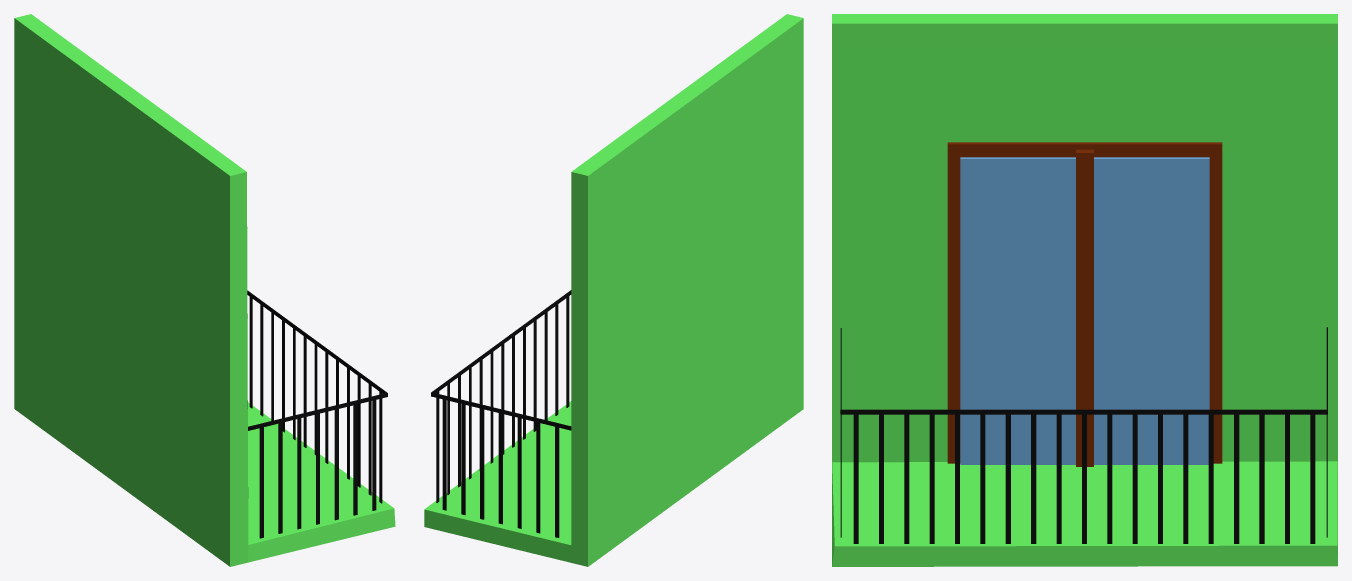
The model's file is balcony2.fbx.
3 views of the same model, side by side, from view 1: azimuth 30°, elevation 25°; view 2: azimuth 150°, elevation 25°; view 3: azimuth 270°, elevation 25° (orthographic). The views are drawn at different scales.
Parts seen in each view (by area): view 1: Cube.010, Cube.006, Cube.008, Cube.005, Cube.009; view 2: Cube.010, Cube.006, Cube.004, Cube.005, Cube.007; view 3: Cube.010, Cube, Cube.006, Cube.001, Cube.002, Cube.005.
Part boxes in pixels (box(x1,y1,x2,y2)): Cube.010: box(14, 14, 395, 566); Cube.006: box(249, 297, 382, 503); Cube.008: box(259, 399, 376, 538); Cube.005: box(247, 290, 387, 396); Cube.009: box(248, 393, 386, 430); Cube.010: box(424, 14, 803, 566); Cube.006: box(436, 296, 569, 502); Cube.004: box(442, 399, 559, 537); Cube.005: box(431, 290, 571, 396); Cube.007: box(431, 392, 571, 430); Cube.010: box(832, 14, 1337, 566); Cube: box(960, 157, 1209, 464); Cube.006: box(853, 414, 1315, 543); Cube.001: box(947, 142, 1222, 463); Cube.002: box(1076, 149, 1093, 466); Cube.005: box(840, 409, 1327, 414).
Bounding box in the file's own units: 88.53 × 200 × 200.
